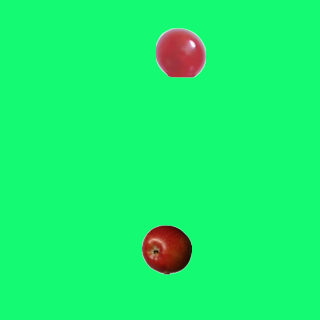Apple Braeburn: (141, 224, 191, 274)
Redcurrant: (155, 27, 205, 77)
